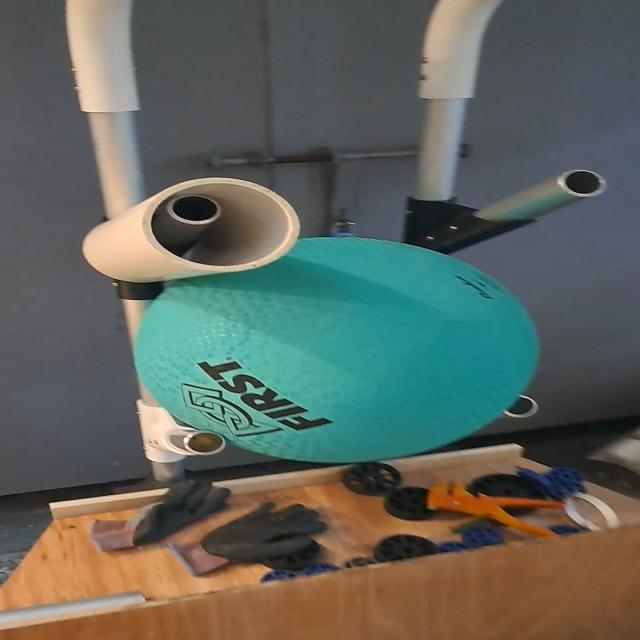ALGAE: (134, 235, 543, 462)
CORAL: (78, 177, 302, 288)
